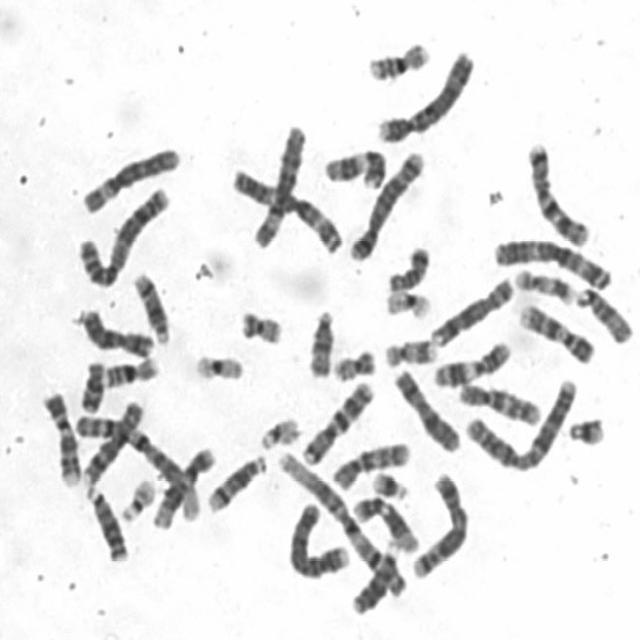A1: (274, 445, 411, 596), (72, 406, 204, 525)
A2: (460, 372, 580, 473), (72, 177, 173, 290)
A3: (226, 161, 346, 255), (488, 231, 616, 292)
B4: (373, 43, 478, 145), (282, 496, 352, 580)
B5: (346, 143, 426, 263), (407, 466, 472, 581)
C10: (328, 435, 413, 493), (453, 376, 545, 428)
C11: (429, 334, 514, 388), (320, 142, 388, 192)
C12: (148, 439, 218, 531), (349, 488, 422, 555)
C6: (248, 117, 310, 251), (77, 139, 183, 216)
C7: (523, 135, 592, 248), (298, 374, 377, 468)
C8: (427, 270, 516, 348), (77, 394, 146, 488)
C9: (515, 297, 598, 366), (38, 385, 84, 488)
D13: (348, 536, 402, 616), (81, 480, 129, 563)
D14: (202, 448, 270, 514), (130, 266, 172, 346)
D15: (573, 280, 635, 346), (303, 303, 337, 379)
E16: (364, 34, 434, 82), (98, 350, 162, 390)
E17: (511, 262, 576, 306), (381, 332, 440, 368)
E18: (384, 240, 431, 293), (75, 355, 108, 414)
F19: (190, 346, 247, 384), (380, 284, 433, 321)
F20: (235, 303, 285, 347), (329, 342, 379, 383)
G21: (563, 409, 609, 448), (367, 464, 411, 501)
G22: (116, 471, 158, 523), (255, 410, 302, 450)
X: (388, 363, 464, 454), (75, 303, 157, 358)
